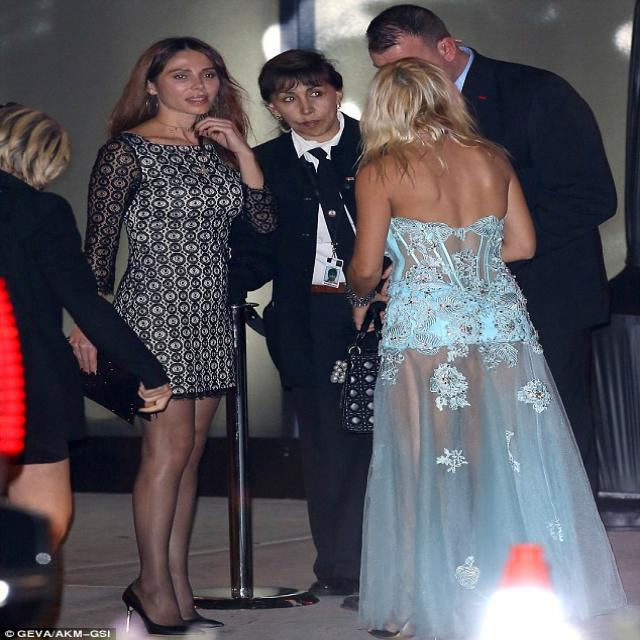body: (341, 53, 629, 640), (364, 2, 623, 506), (66, 33, 272, 639), (227, 46, 391, 612), (0, 99, 173, 562), (0, 266, 60, 640)
